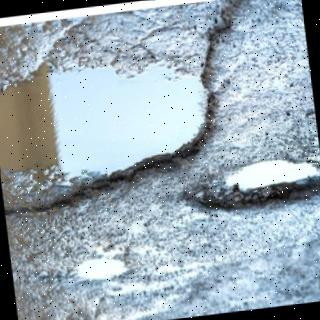pothole: (0, 0, 242, 210), (195, 160, 320, 210)
